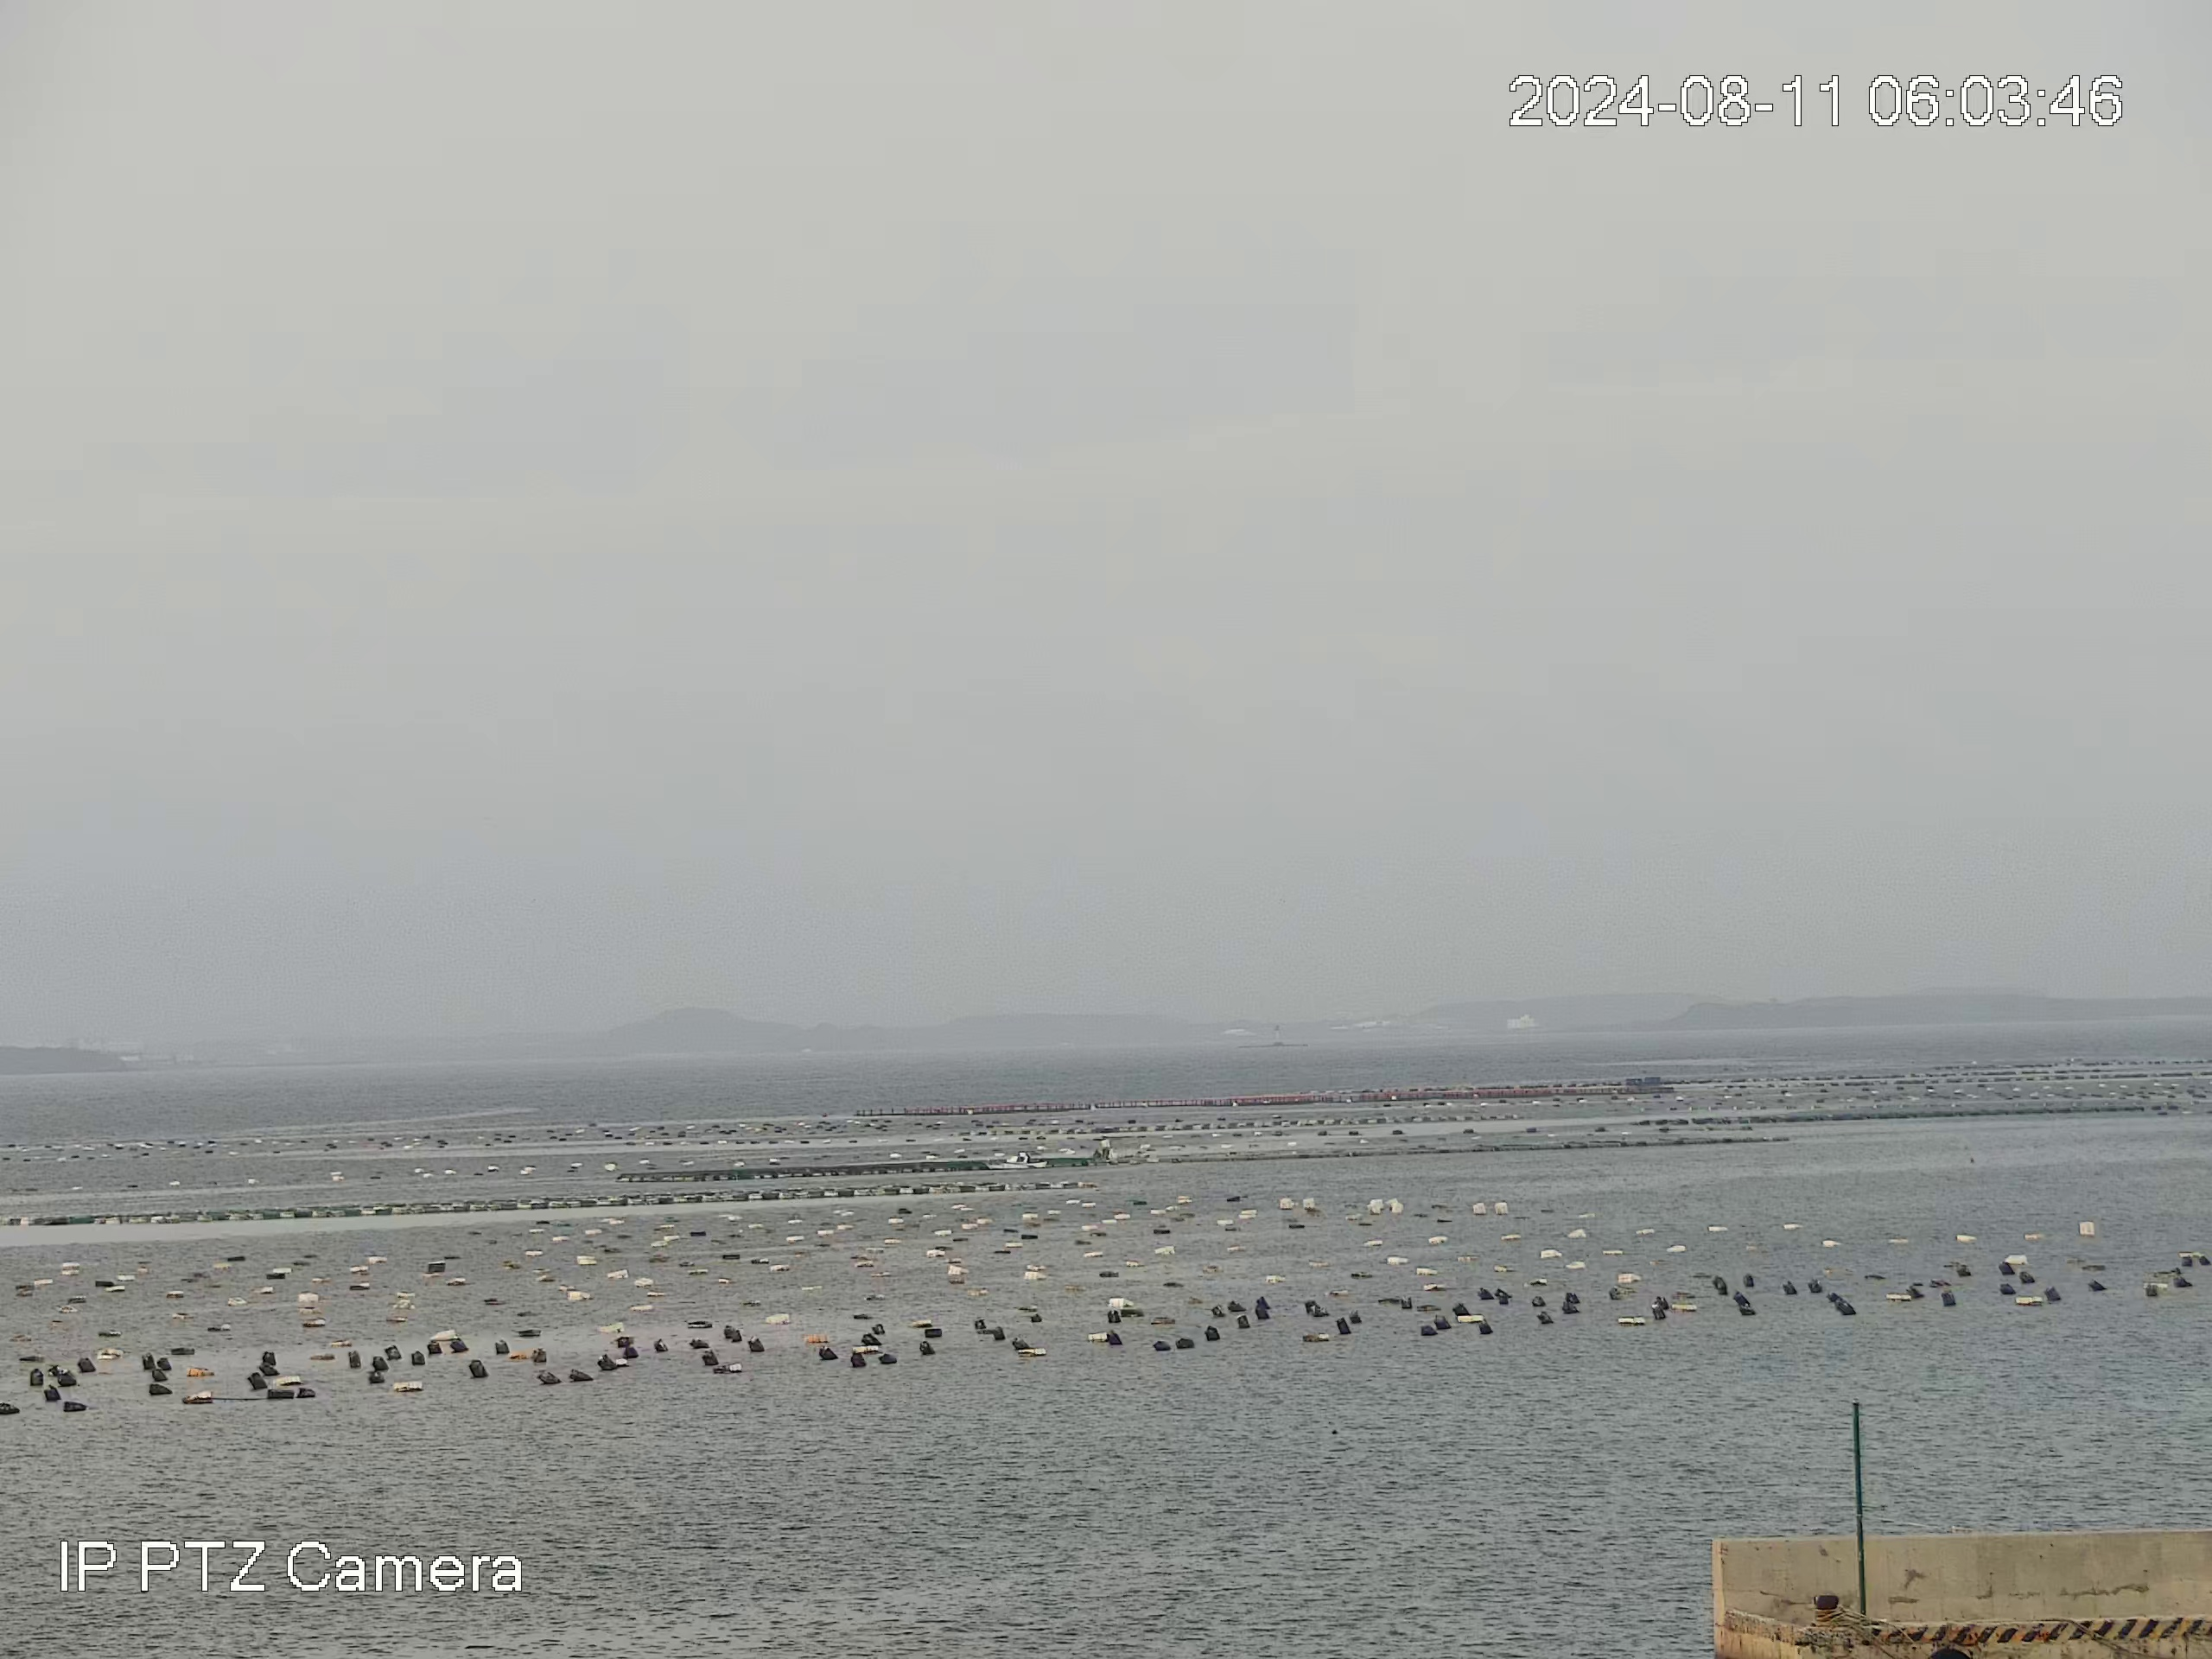boat: (981, 1150, 1049, 1171)
